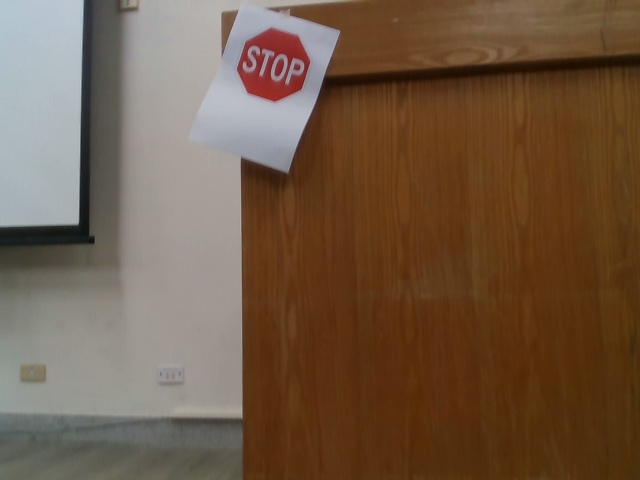stop: (234, 25, 314, 105)
